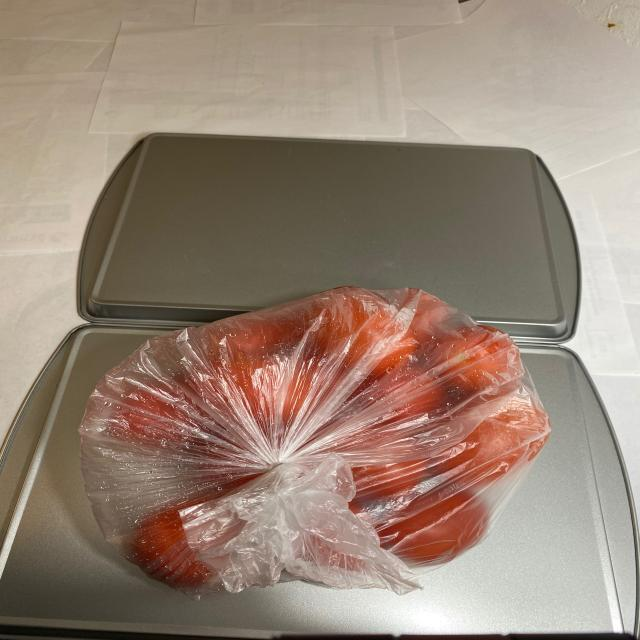tomato: (86, 287, 547, 593)
